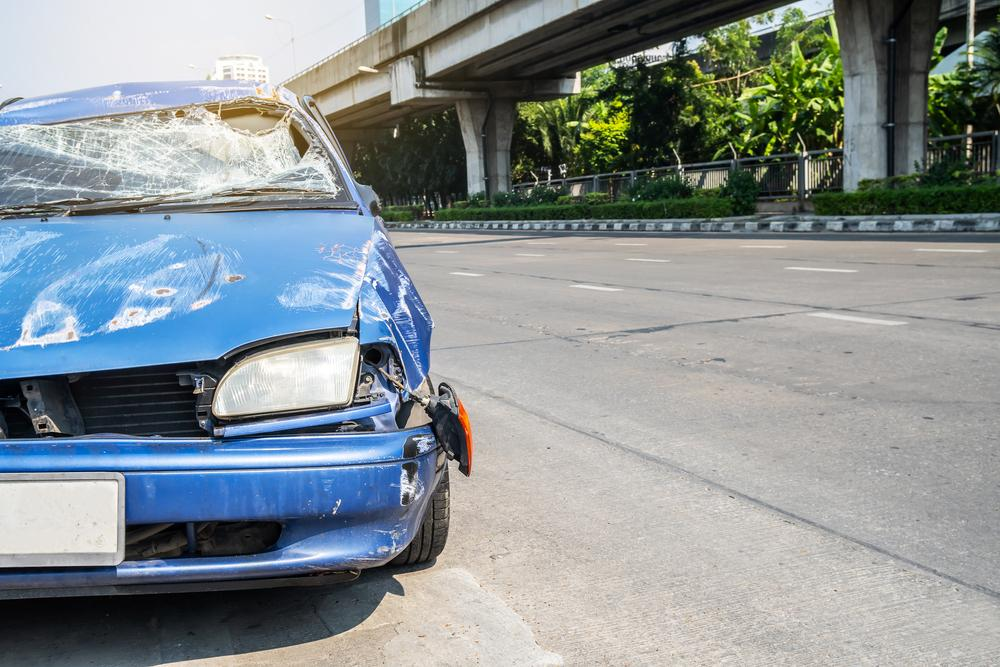glass shatter: (0, 99, 349, 209)
scratch: (0, 225, 243, 352), (354, 232, 434, 386), (0, 86, 288, 127), (363, 431, 436, 564), (275, 233, 373, 316)
